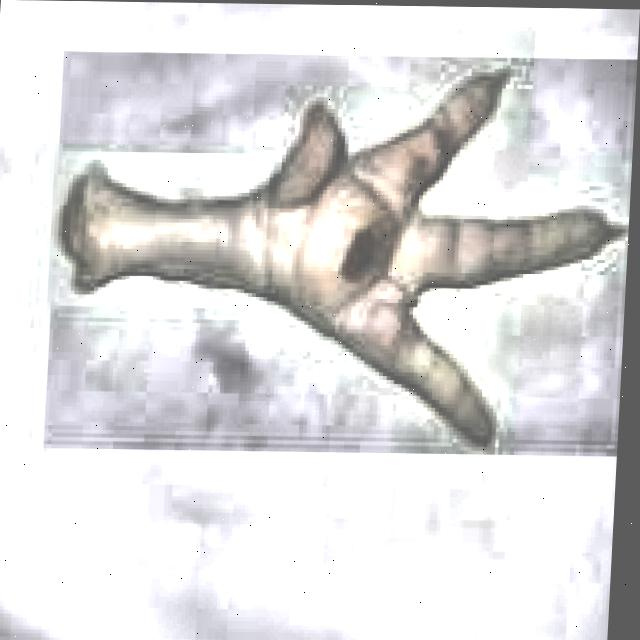Bumble foot: (51, 54, 637, 451), (336, 220, 388, 282)
